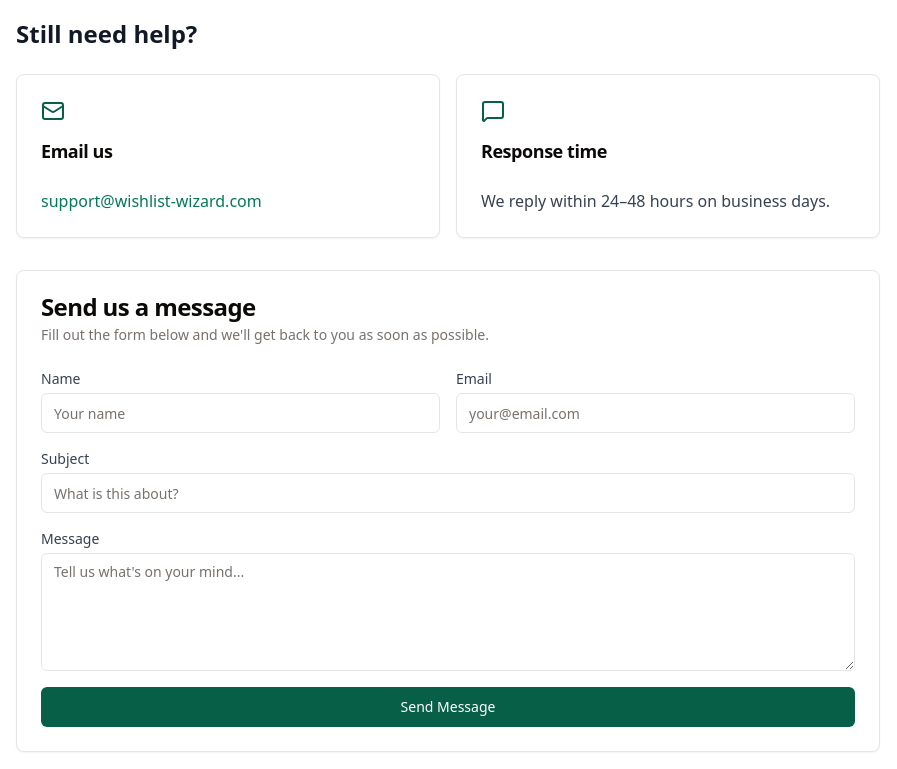
Support › submits the contact form as a mailto: link and shows a confirmation
The width and height of the screenshot is (897, 769).
(page scrolled)
In the field with placeholder "Your name": (240, 413) [41, 393, 440, 433], type "Mark Nelson"
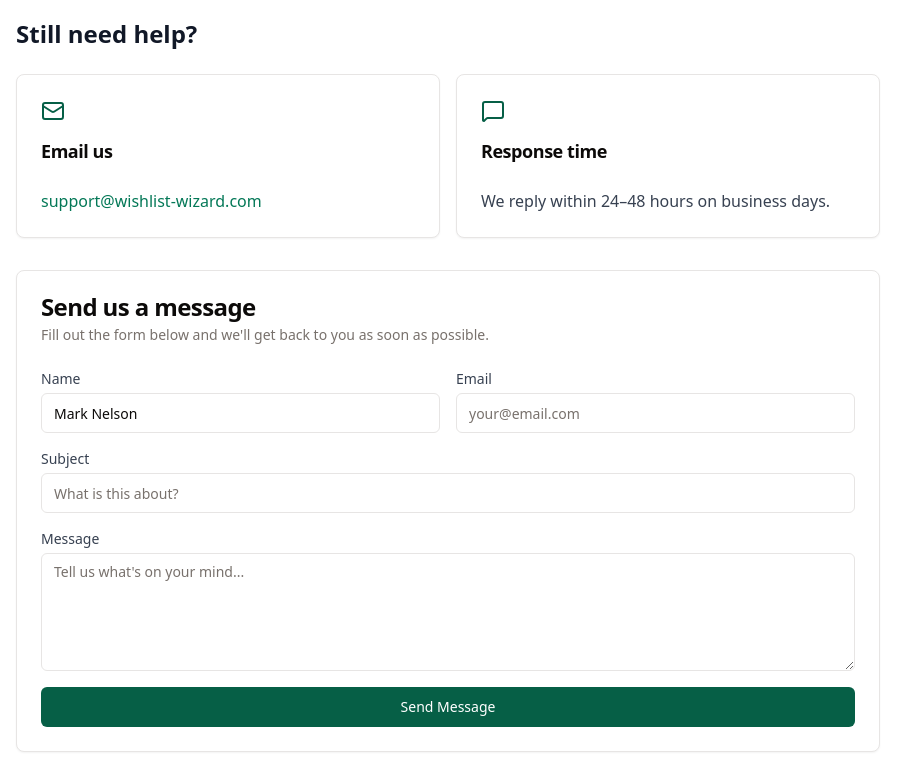
In the field with placeholder "your@email.com": (656, 413) [456, 393, 855, 433], type "mark@example.com"
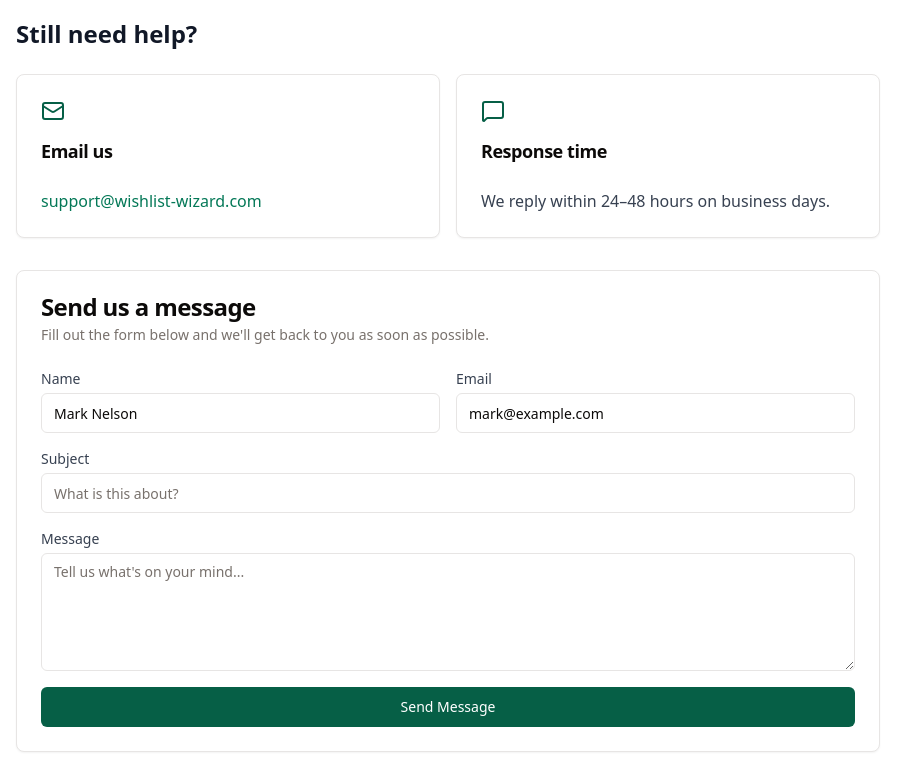
In the field with placeholder "What is this about?": (448, 493) [41, 473, 855, 513], type "Billing question"
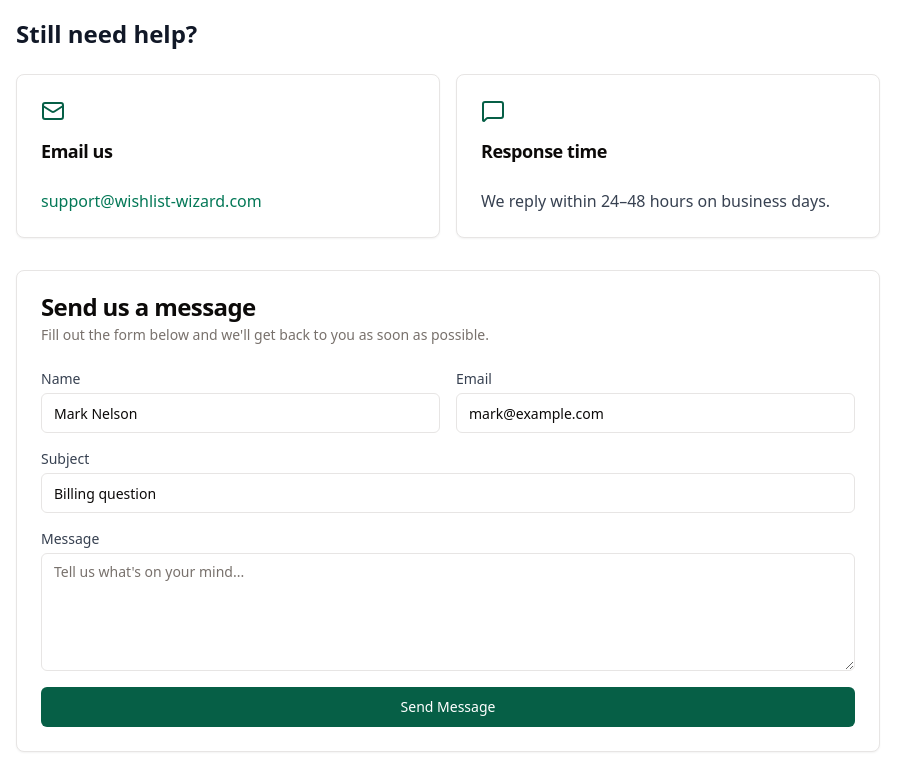
In the text box with placeholder "Tell us what's on your mind...": (448, 612) [41, 553, 855, 671], type "Help please"
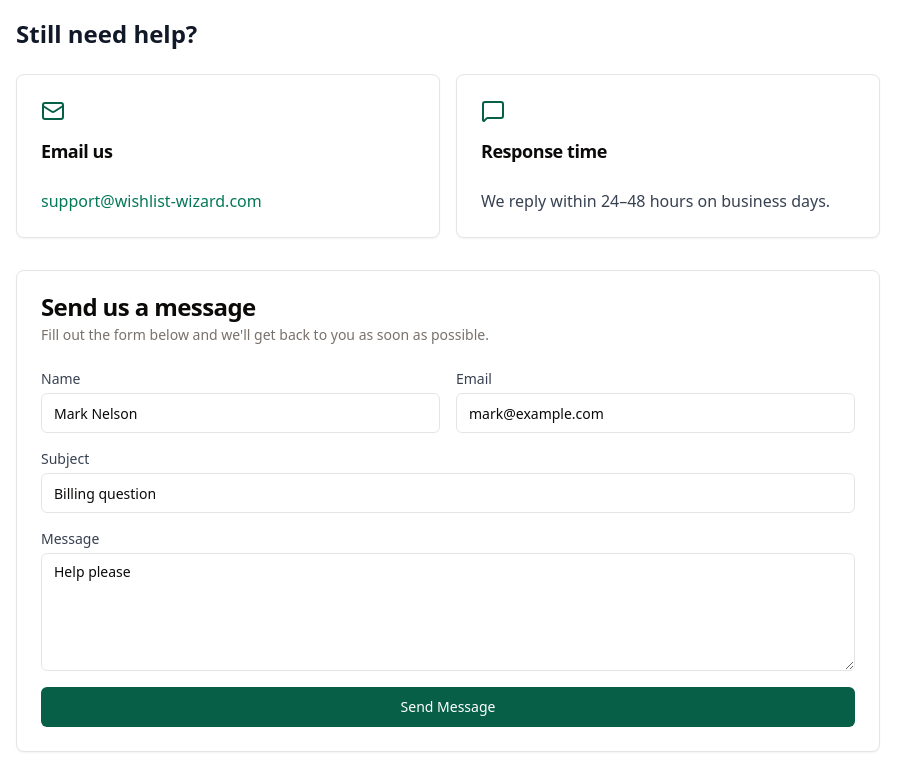
Click the button "Send Message": (448, 707) [41, 687, 855, 727]
(page scrolled)
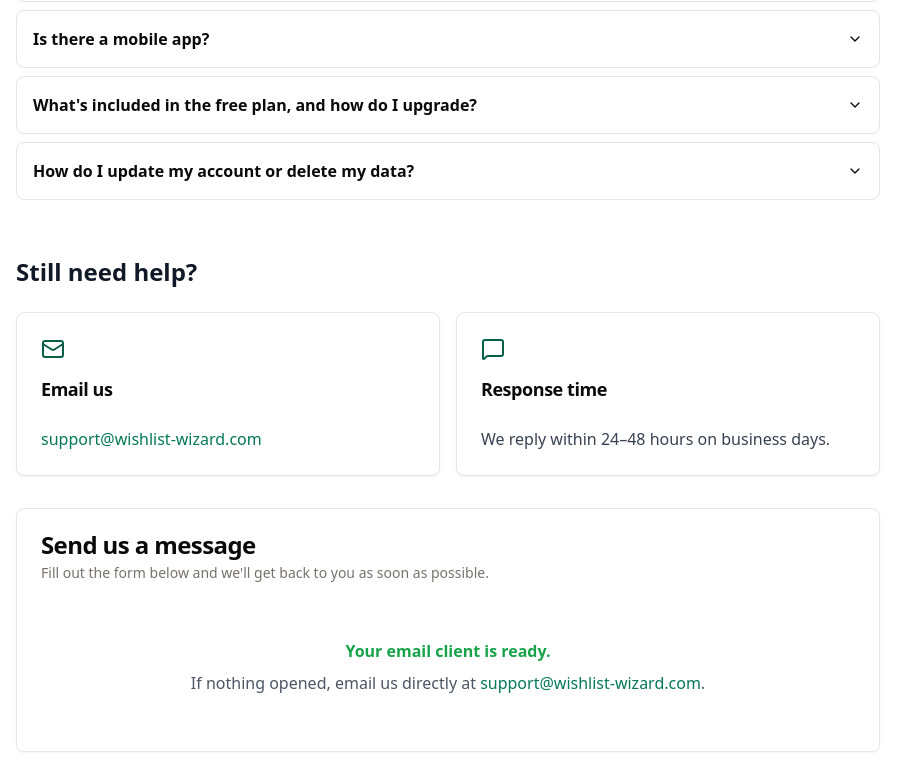
Expected: the text "Your email client is ready." is shown, [346, 640, 550, 662]
Expected: the button "Send Message" is gone
